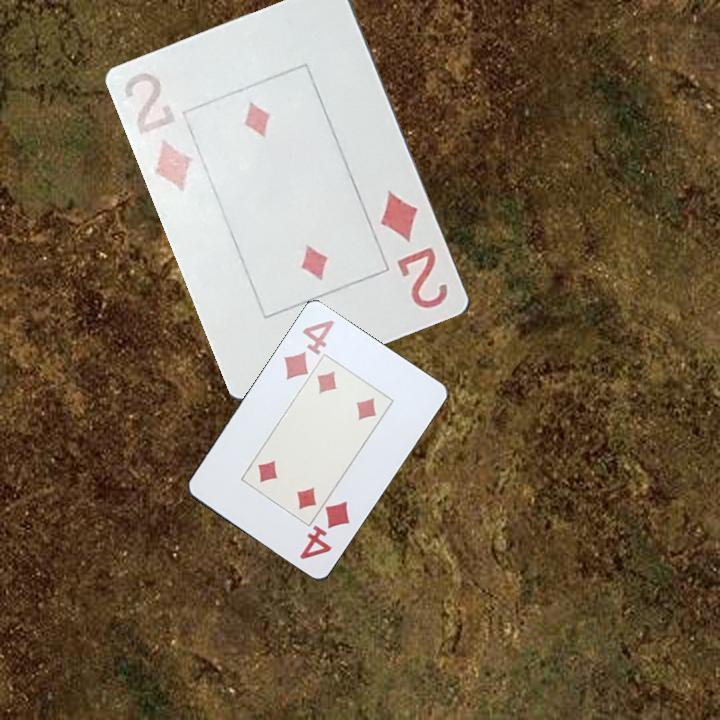2d: (116, 69, 199, 195), (377, 186, 453, 312)
4d: (280, 317, 338, 384), (296, 497, 353, 563)
